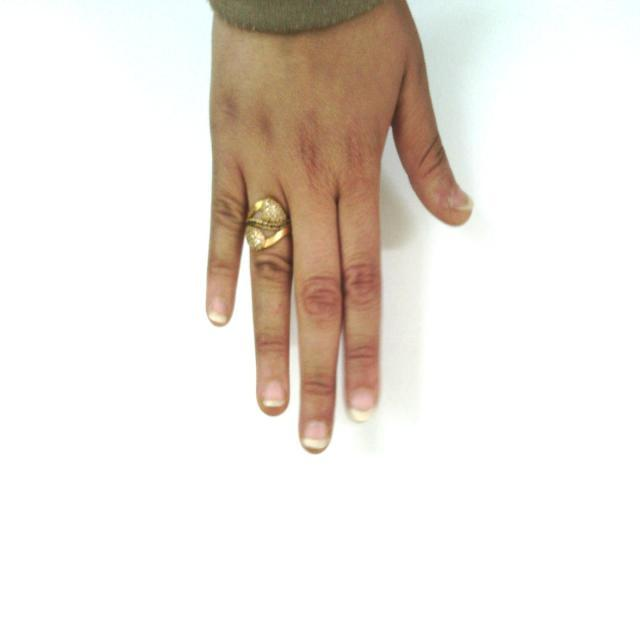Fingernail: (350, 388, 375, 420), (303, 422, 329, 448), (263, 381, 286, 407), (208, 299, 227, 324), (451, 190, 474, 209)
